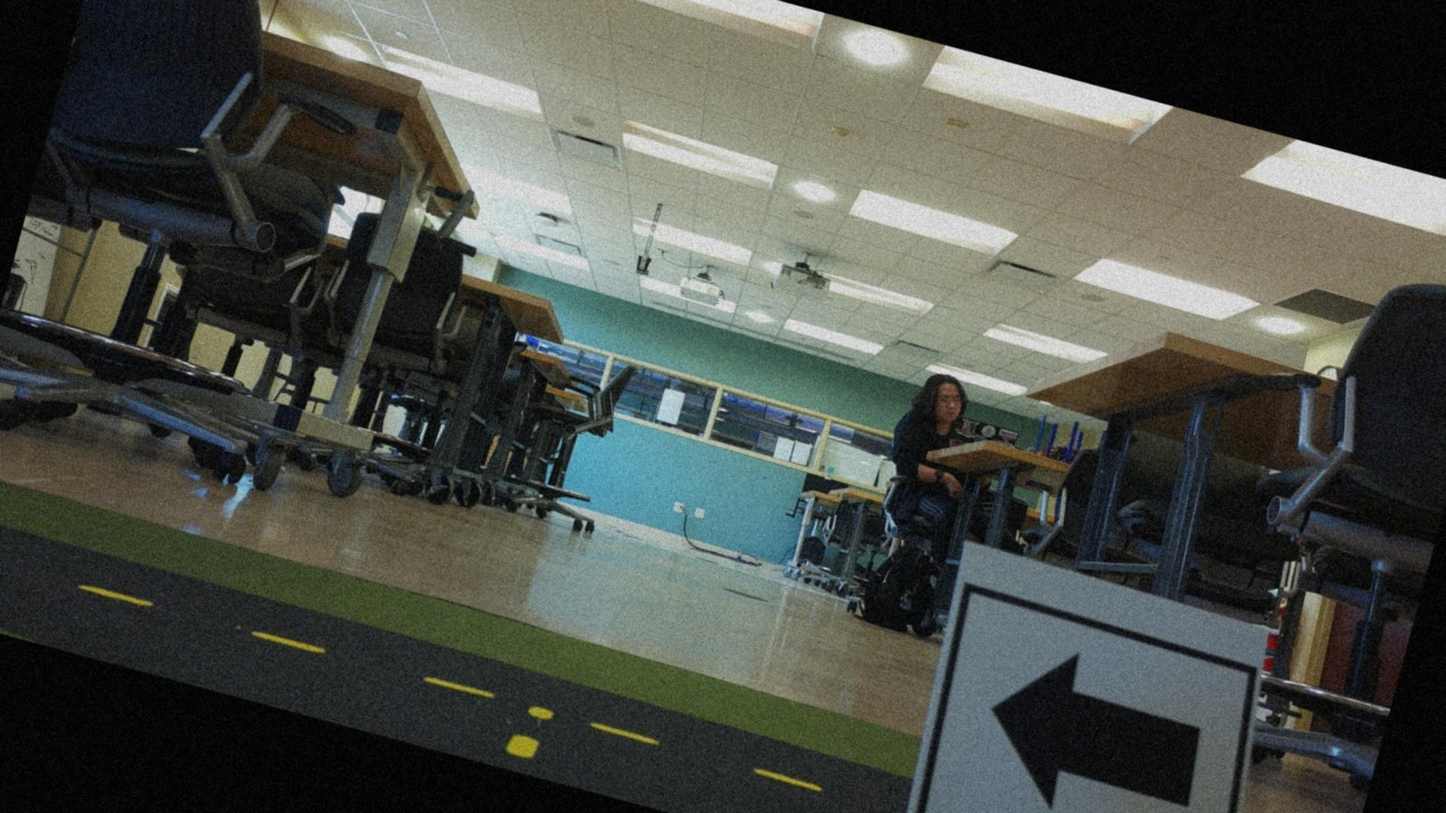turnright: (909, 597, 1256, 812)
yellowline: (0, 543, 825, 794), (501, 700, 555, 766)
